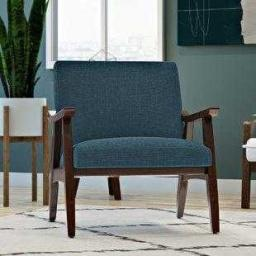Chair: (51, 63, 217, 236)
